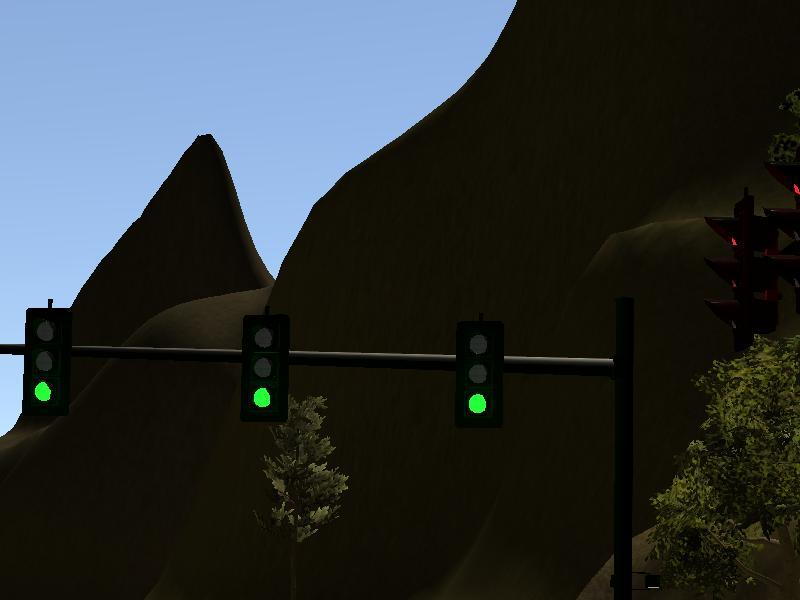Green: (23, 307, 71, 416), (454, 321, 502, 430), (241, 314, 289, 423)
